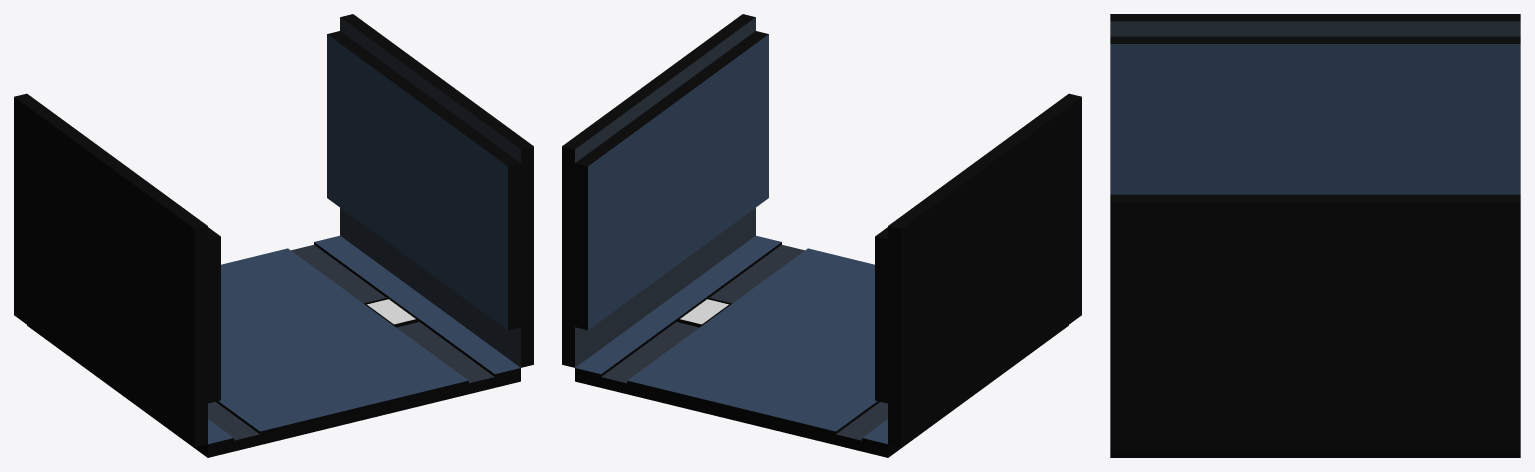
Rendered from StraightHallwaySection.fbx.
3 renders of one model, left to right at view 1: azimuth 30°, elevation 25°; view 2: azimuth 150°, elevation 25°; view 3: azimuth 270°, elevation 25°, orthographic. The views are drawn at different scales.
Visible parts, largest first — view 1: HallwayWallStraight.004, HallwayWallStraight.003, HallwayFloorIStraight.002; view 2: HallwayWallStraight.004, HallwayWallStraight.003, HallwayFloorIStraight.002; view 3: HallwayWallStraight.003, HallwayWallStraight.004, HallwayFloorIStraight.002.
Part boxes in pixels (box(x1,y1,x2,y2)): HallwayWallStraight.004: box(14, 93, 220, 447); HallwayWallStraight.003: box(327, 14, 533, 367); HallwayFloorIStraight.002: box(27, 235, 520, 457); HallwayWallStraight.004: box(875, 93, 1081, 447); HallwayWallStraight.003: box(562, 14, 768, 367); HallwayFloorIStraight.002: box(575, 235, 1068, 457); HallwayWallStraight.003: box(1110, 194, 1520, 449); HallwayWallStraight.004: box(1110, 14, 1520, 194); HallwayFloorIStraight.002: box(1110, 449, 1520, 457).
Bounding box in the file's own units: 650 × 425 × 600.
